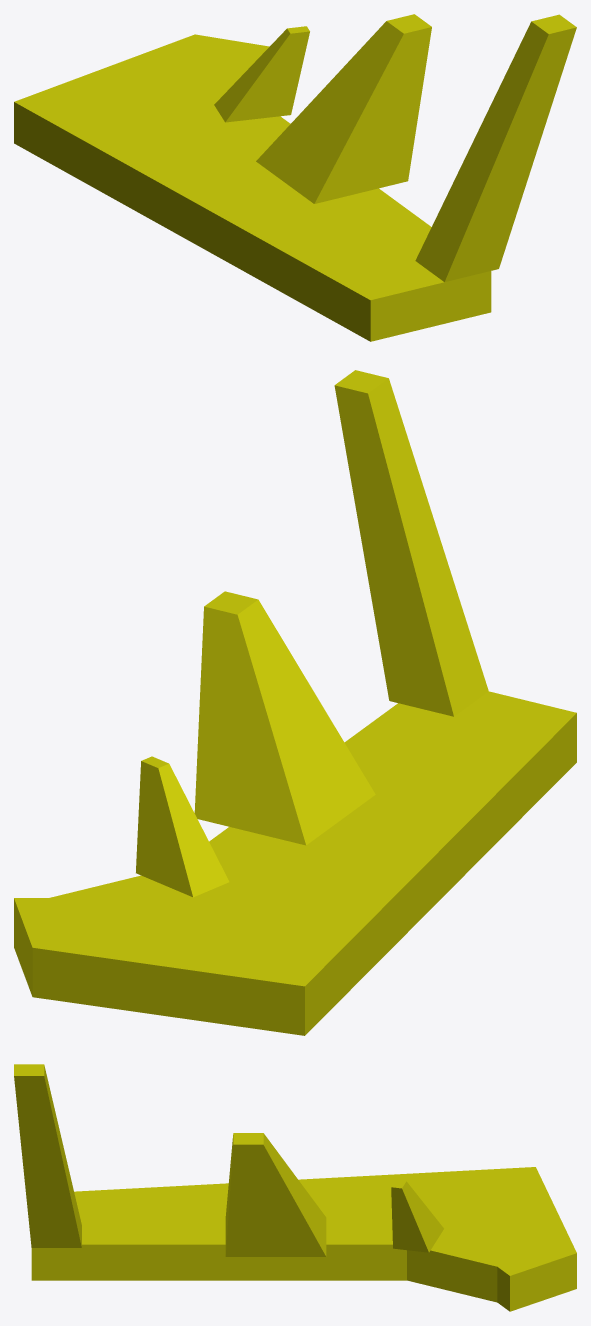
Rendered from x_proval_00_189_1_rmstrd.fbx.
3 renders of one model, top to bottom at view 1: azimuth 30°, elevation 25°; view 2: azimuth 150°, elevation 25°; view 3: azimuth 270°, elevation 25°, orthographic. The views are drawn at different scales.
Visible parts, largest first — view 1: x_proval_00_189_1_rmstrd1; view 2: x_proval_00_189_1_rmstrd1; view 3: x_proval_00_189_1_rmstrd1.
Part boxes in pixels (box(x1,y1,x2,y2)): x_proval_00_189_1_rmstrd1: box(14, 14, 576, 341); x_proval_00_189_1_rmstrd1: box(14, 370, 576, 1035); x_proval_00_189_1_rmstrd1: box(14, 1064, 576, 1311).
Bounding box in the file's own units: 1.31 × 1.32 × 2.85.
